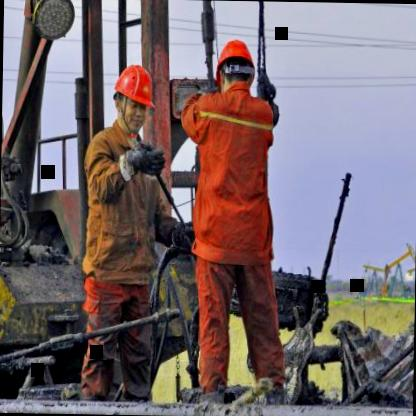helmet: (108, 59, 156, 135), (210, 32, 258, 100)
